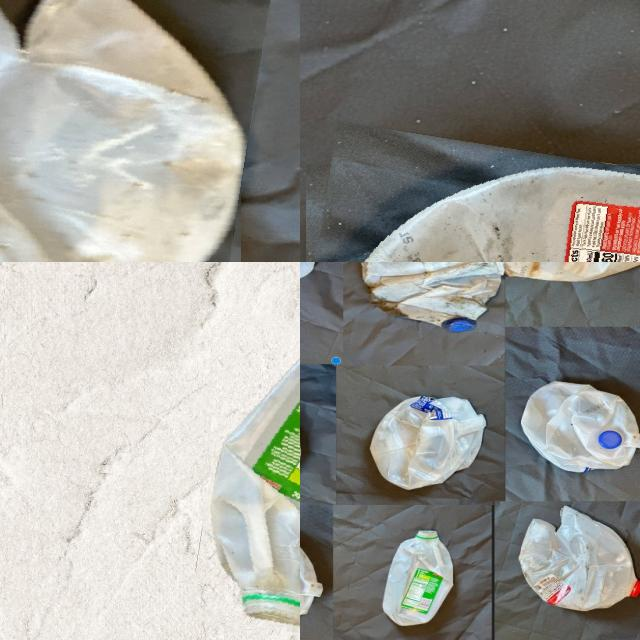milk-jug: (0, 0, 256, 262), (300, 141, 640, 262), (198, 320, 300, 640), (511, 504, 640, 613), (370, 388, 484, 492), (517, 382, 640, 474), (367, 262, 507, 331), (377, 525, 459, 628), (512, 262, 640, 294)
